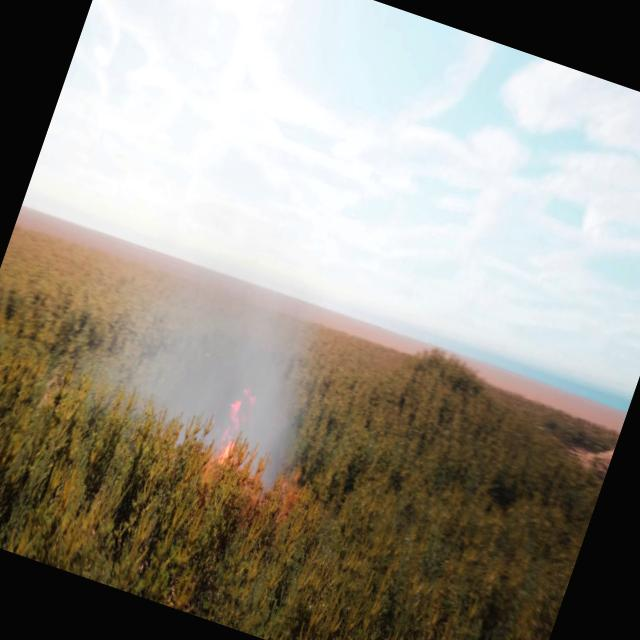fire: (207, 386, 259, 474)
smoke: (65, 166, 372, 500)
